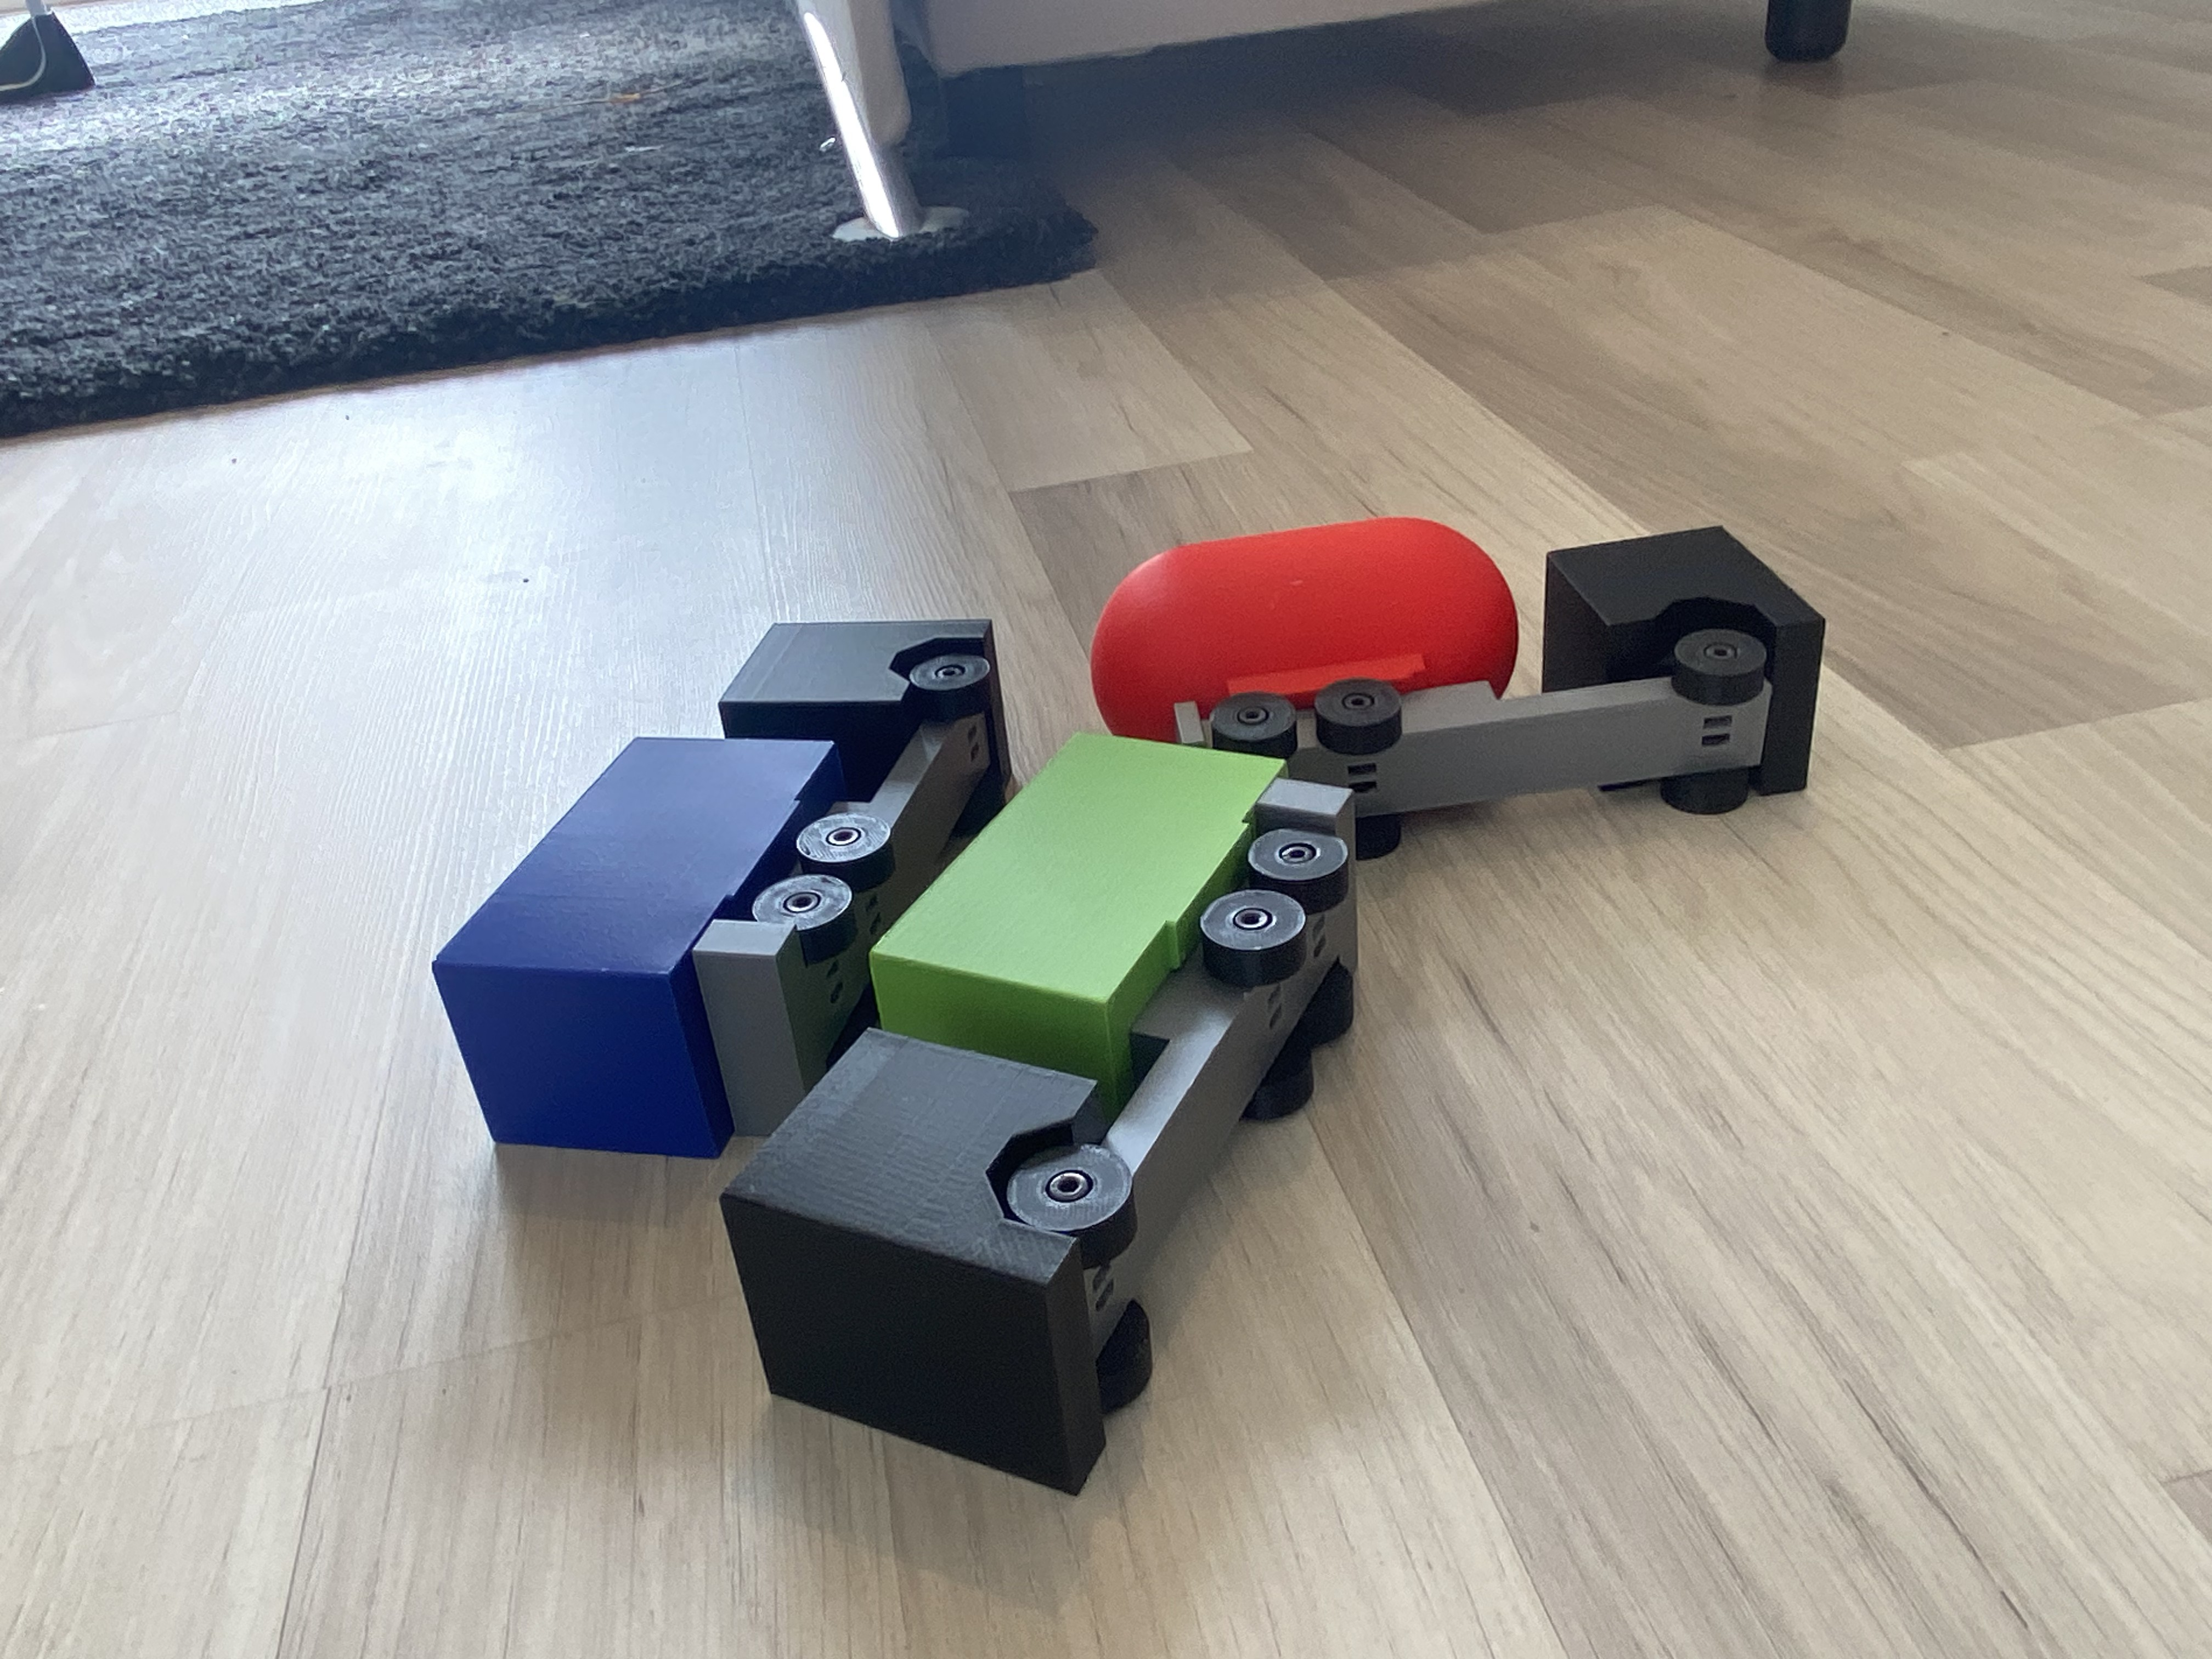blue_truck: (359, 669, 1082, 1061)
green_truck: (829, 688, 1291, 1488)
red_truck: (1303, 298, 1620, 1049)
